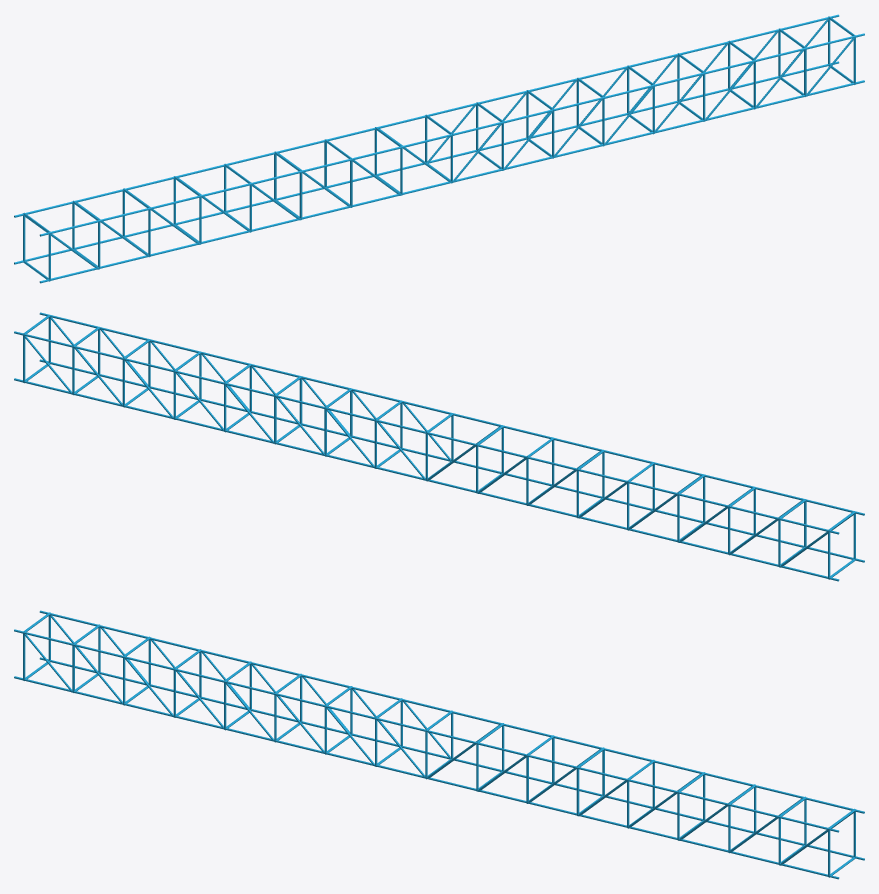
The model's file is Metal_Structure_01_Lod0.fbx.
The picture shows the model from 3 angles, top to bottom: view 1: azimuth 30°, elevation 25°; view 2: azimuth 150°, elevation 25°; view 3: azimuth 330°, elevation 25°; orthographic projection.
Visible parts, largest first — view 1: Metal_Structure_01_Lod0; view 2: Metal_Structure_01_Lod0; view 3: Metal_Structure_01_Lod0.
Boxes of the visible parts, x1,y1,x2,y2 form: Metal_Structure_01_Lod0: (14, 14, 864, 283); Metal_Structure_01_Lod0: (14, 312, 864, 581); Metal_Structure_01_Lod0: (14, 610, 864, 879).
Bounding box in the file's own units: 1969 × 113 × 111.
